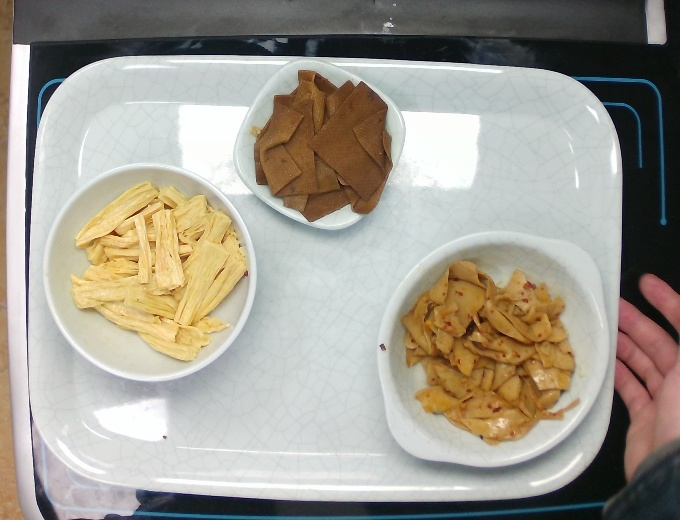JYsf-Fan_Wan: (35, 158, 262, 392)
JYsf-Shuang_Er_Wan: (369, 219, 615, 472)
JYsf-Si_Fang_Die: (231, 54, 413, 238)
